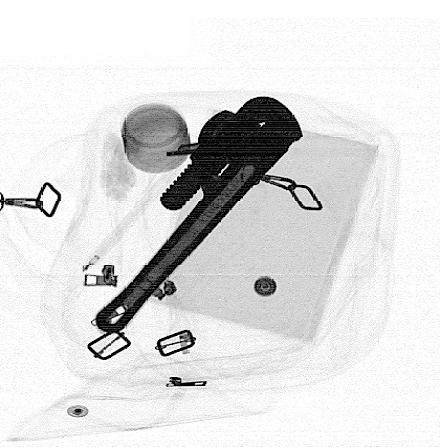Wrench: (93, 95, 306, 334)
